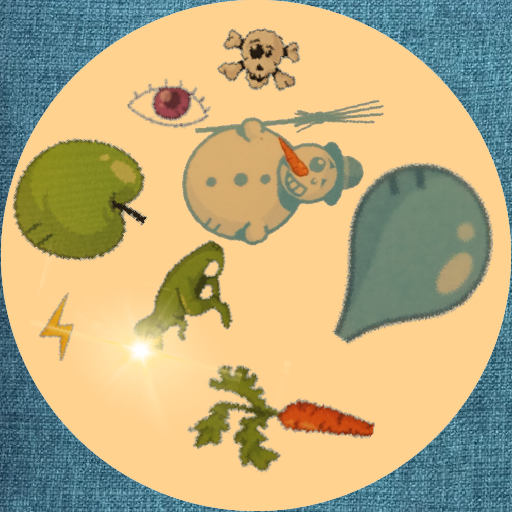apple_icon: (6, 120, 150, 264)
carrot_icon: (186, 313, 376, 503)
dino_icon: (119, 231, 241, 353)
eye_icon: (127, 64, 211, 148)
lightning_icon: (27, 292, 96, 361)
raindrop_icon: (301, 154, 507, 360)
skull_icon: (216, 12, 309, 105)
snowman_icon: (176, 49, 390, 263)
